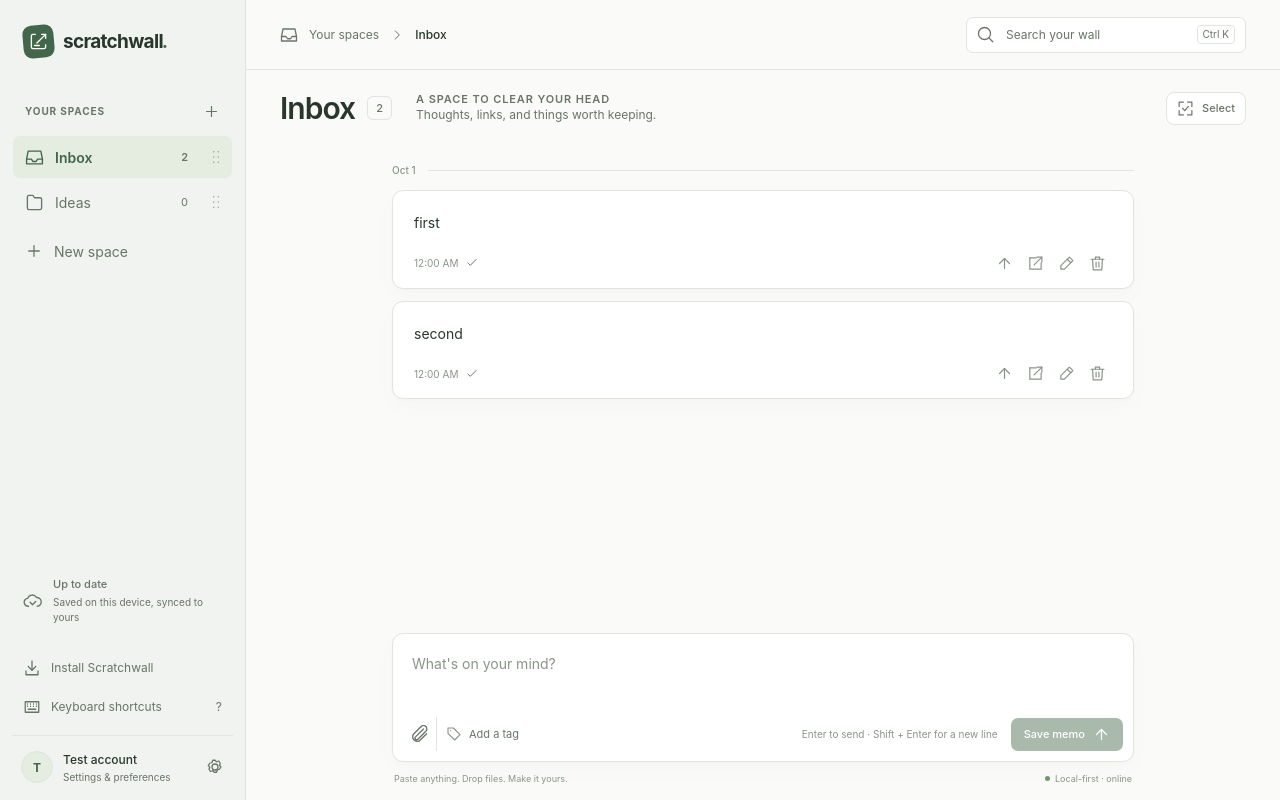
Test case: web workspace interactions › toggles cards with short clicks in selection mode and with the keyboard
expect the text box named "Memo text" is shown: met, box [393, 634, 1133, 710]
Press Space in the element showing "first 12:00 AM", box [392, 190, 1134, 288]
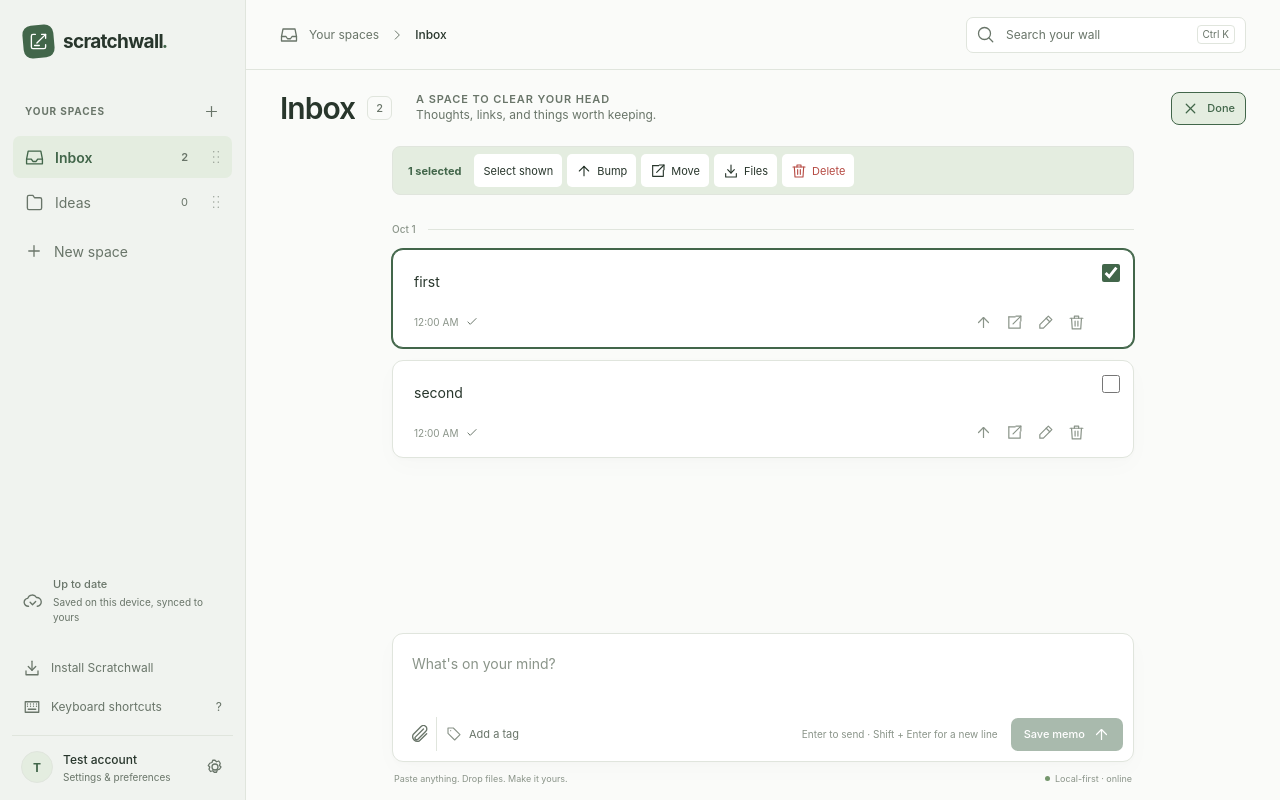
expect the text "1 selected" is shown: met, box [408, 164, 462, 178]
Click the text "second".
click(438, 392)  # box [414, 384, 463, 400]
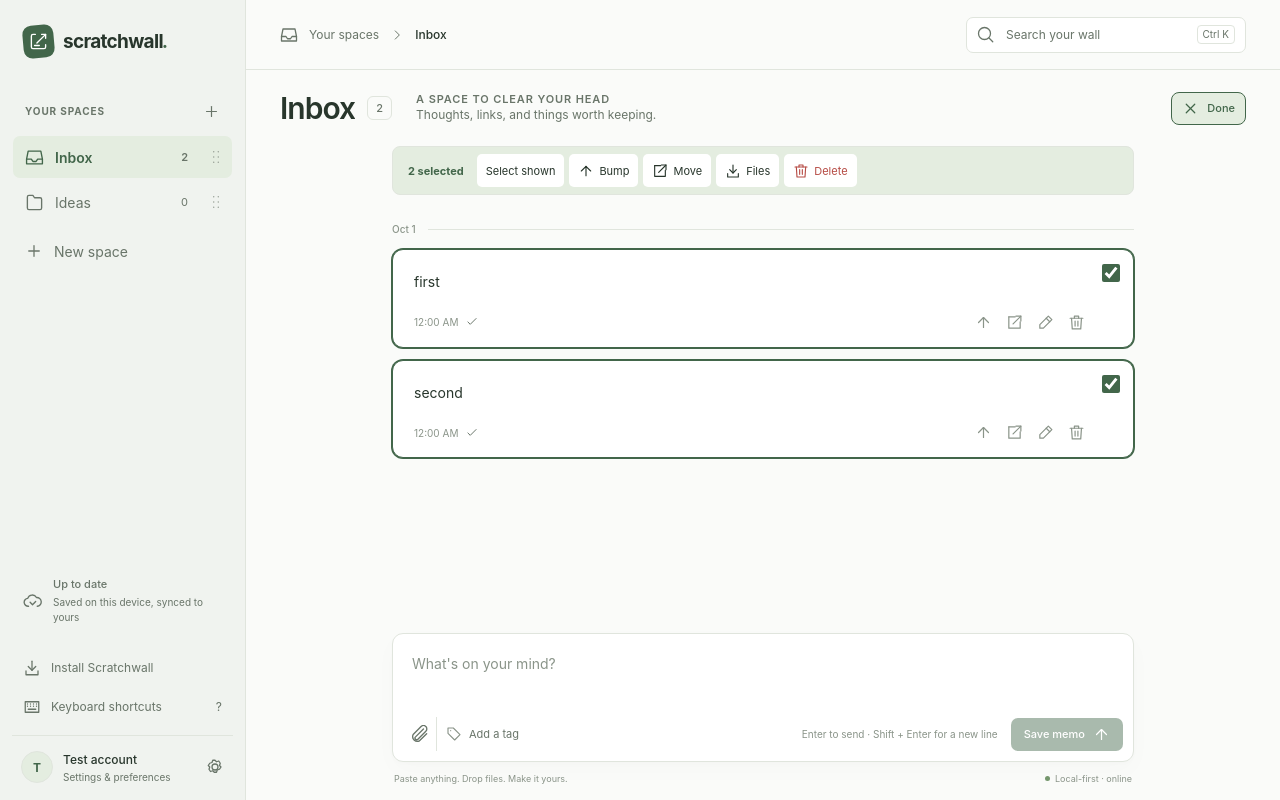
expect the text "2 selected" is shown: met, box [408, 164, 464, 178]
Click the text "first".
click(427, 282)  # box [414, 273, 440, 290]
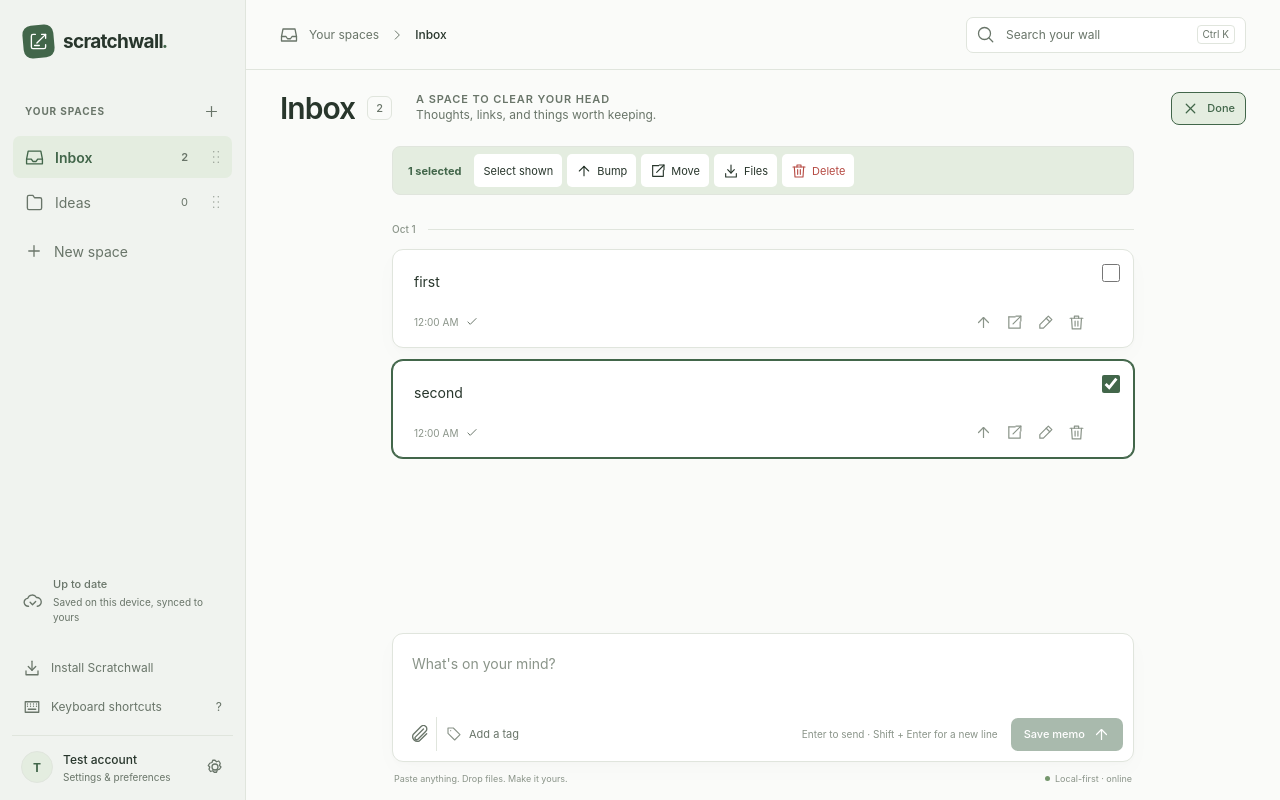
expect the checkbox named "Select memo" in the row of "second" is checked: met, box [1102, 374, 1120, 392]
expect the text "1 selected" is shown: met, box [408, 164, 462, 178]
